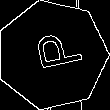P_W: (23, 31, 82, 79)
